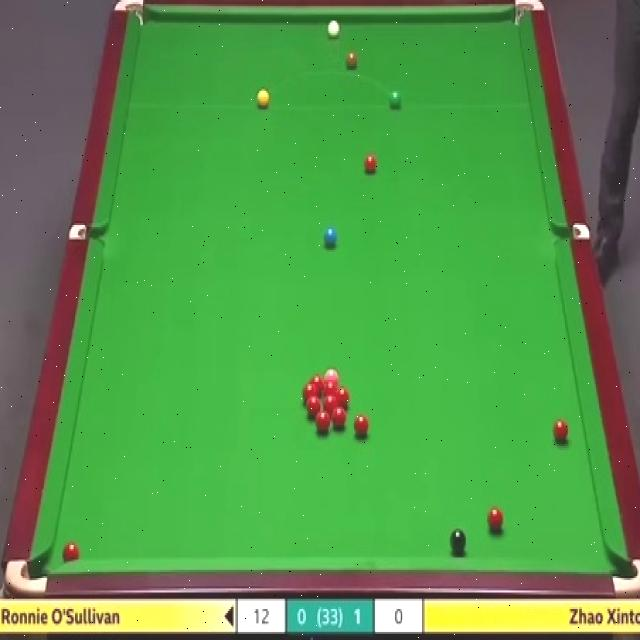black-ball: (450, 529, 467, 555)
blue-ball: (322, 226, 338, 249)
brown-ball: (345, 52, 358, 72)
green-ball: (388, 90, 403, 112)
pink-ball: (324, 369, 339, 380)
red-ball: (487, 506, 505, 533), (61, 543, 81, 564), (363, 151, 378, 176), (553, 420, 569, 443), (354, 415, 369, 438), (331, 407, 346, 430), (316, 412, 330, 434), (307, 396, 320, 418), (336, 388, 350, 408), (303, 383, 319, 400), (310, 377, 325, 395), (324, 395, 338, 410), (323, 379, 335, 396)
white-ball: (326, 18, 342, 41)
yellow-ball: (256, 88, 270, 109)
